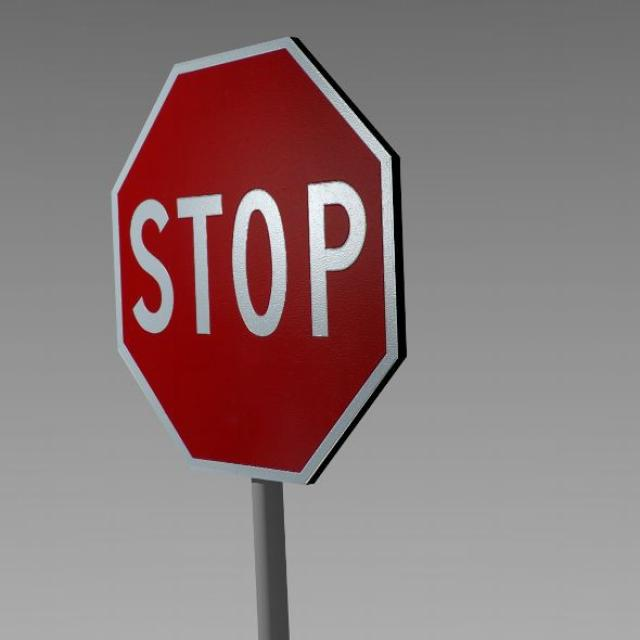stop: (118, 48, 386, 471)
